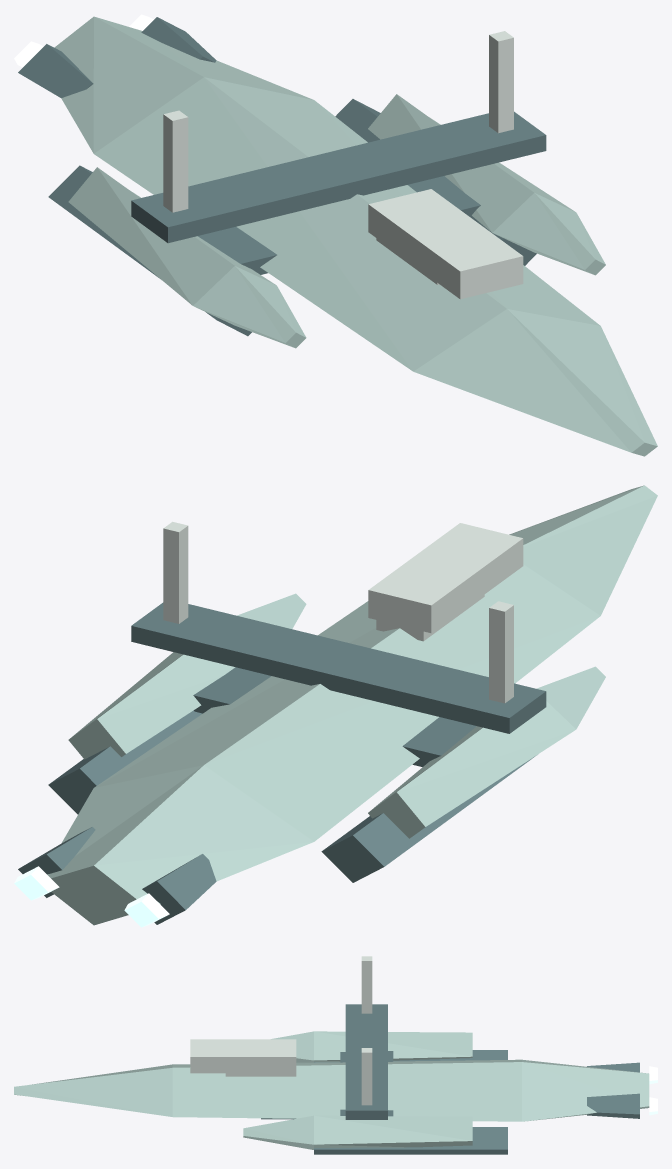
The picture shows the model from 3 angles, top to bottom: view 1: azimuth 30°, elevation 25°; view 2: azimuth 150°, elevation 25°; view 3: azimuth 270°, elevation 25°; orthographic projection. The views are drawn at different scales.
Size of the model in its own units: 3.3 by 1.64 by 8.32.
